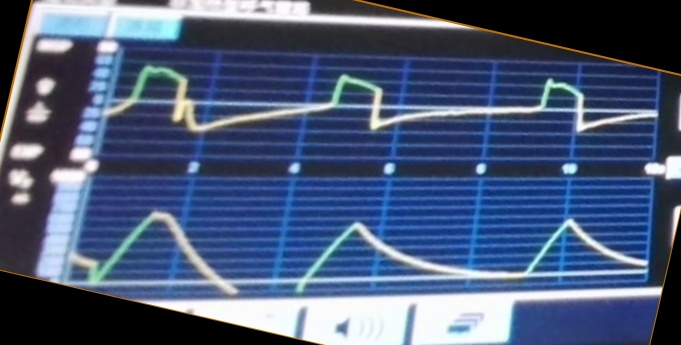Premature_cycling Flow: (118, 63, 655, 153)
Premature_cycling Volume: (74, 207, 648, 290)
